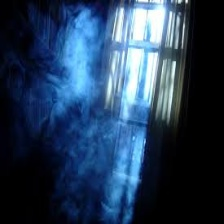smoke: (48, 19, 111, 177)
